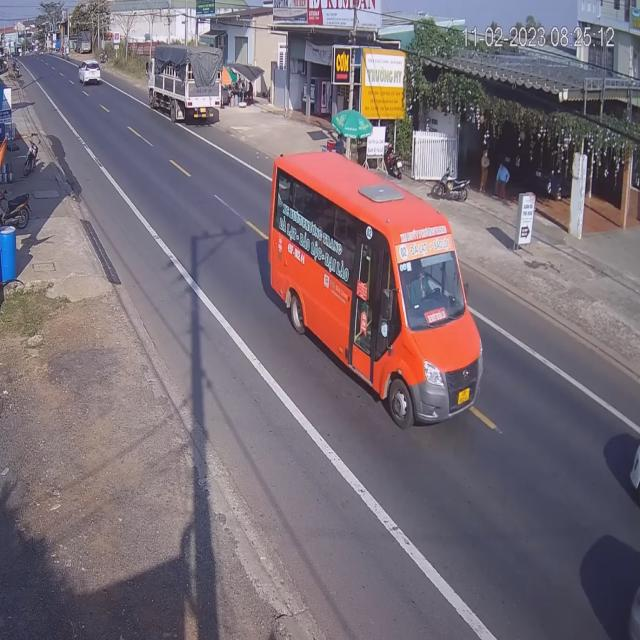bus: (272, 142, 481, 436)
car: (80, 58, 101, 87)
truck: (149, 42, 223, 126)
